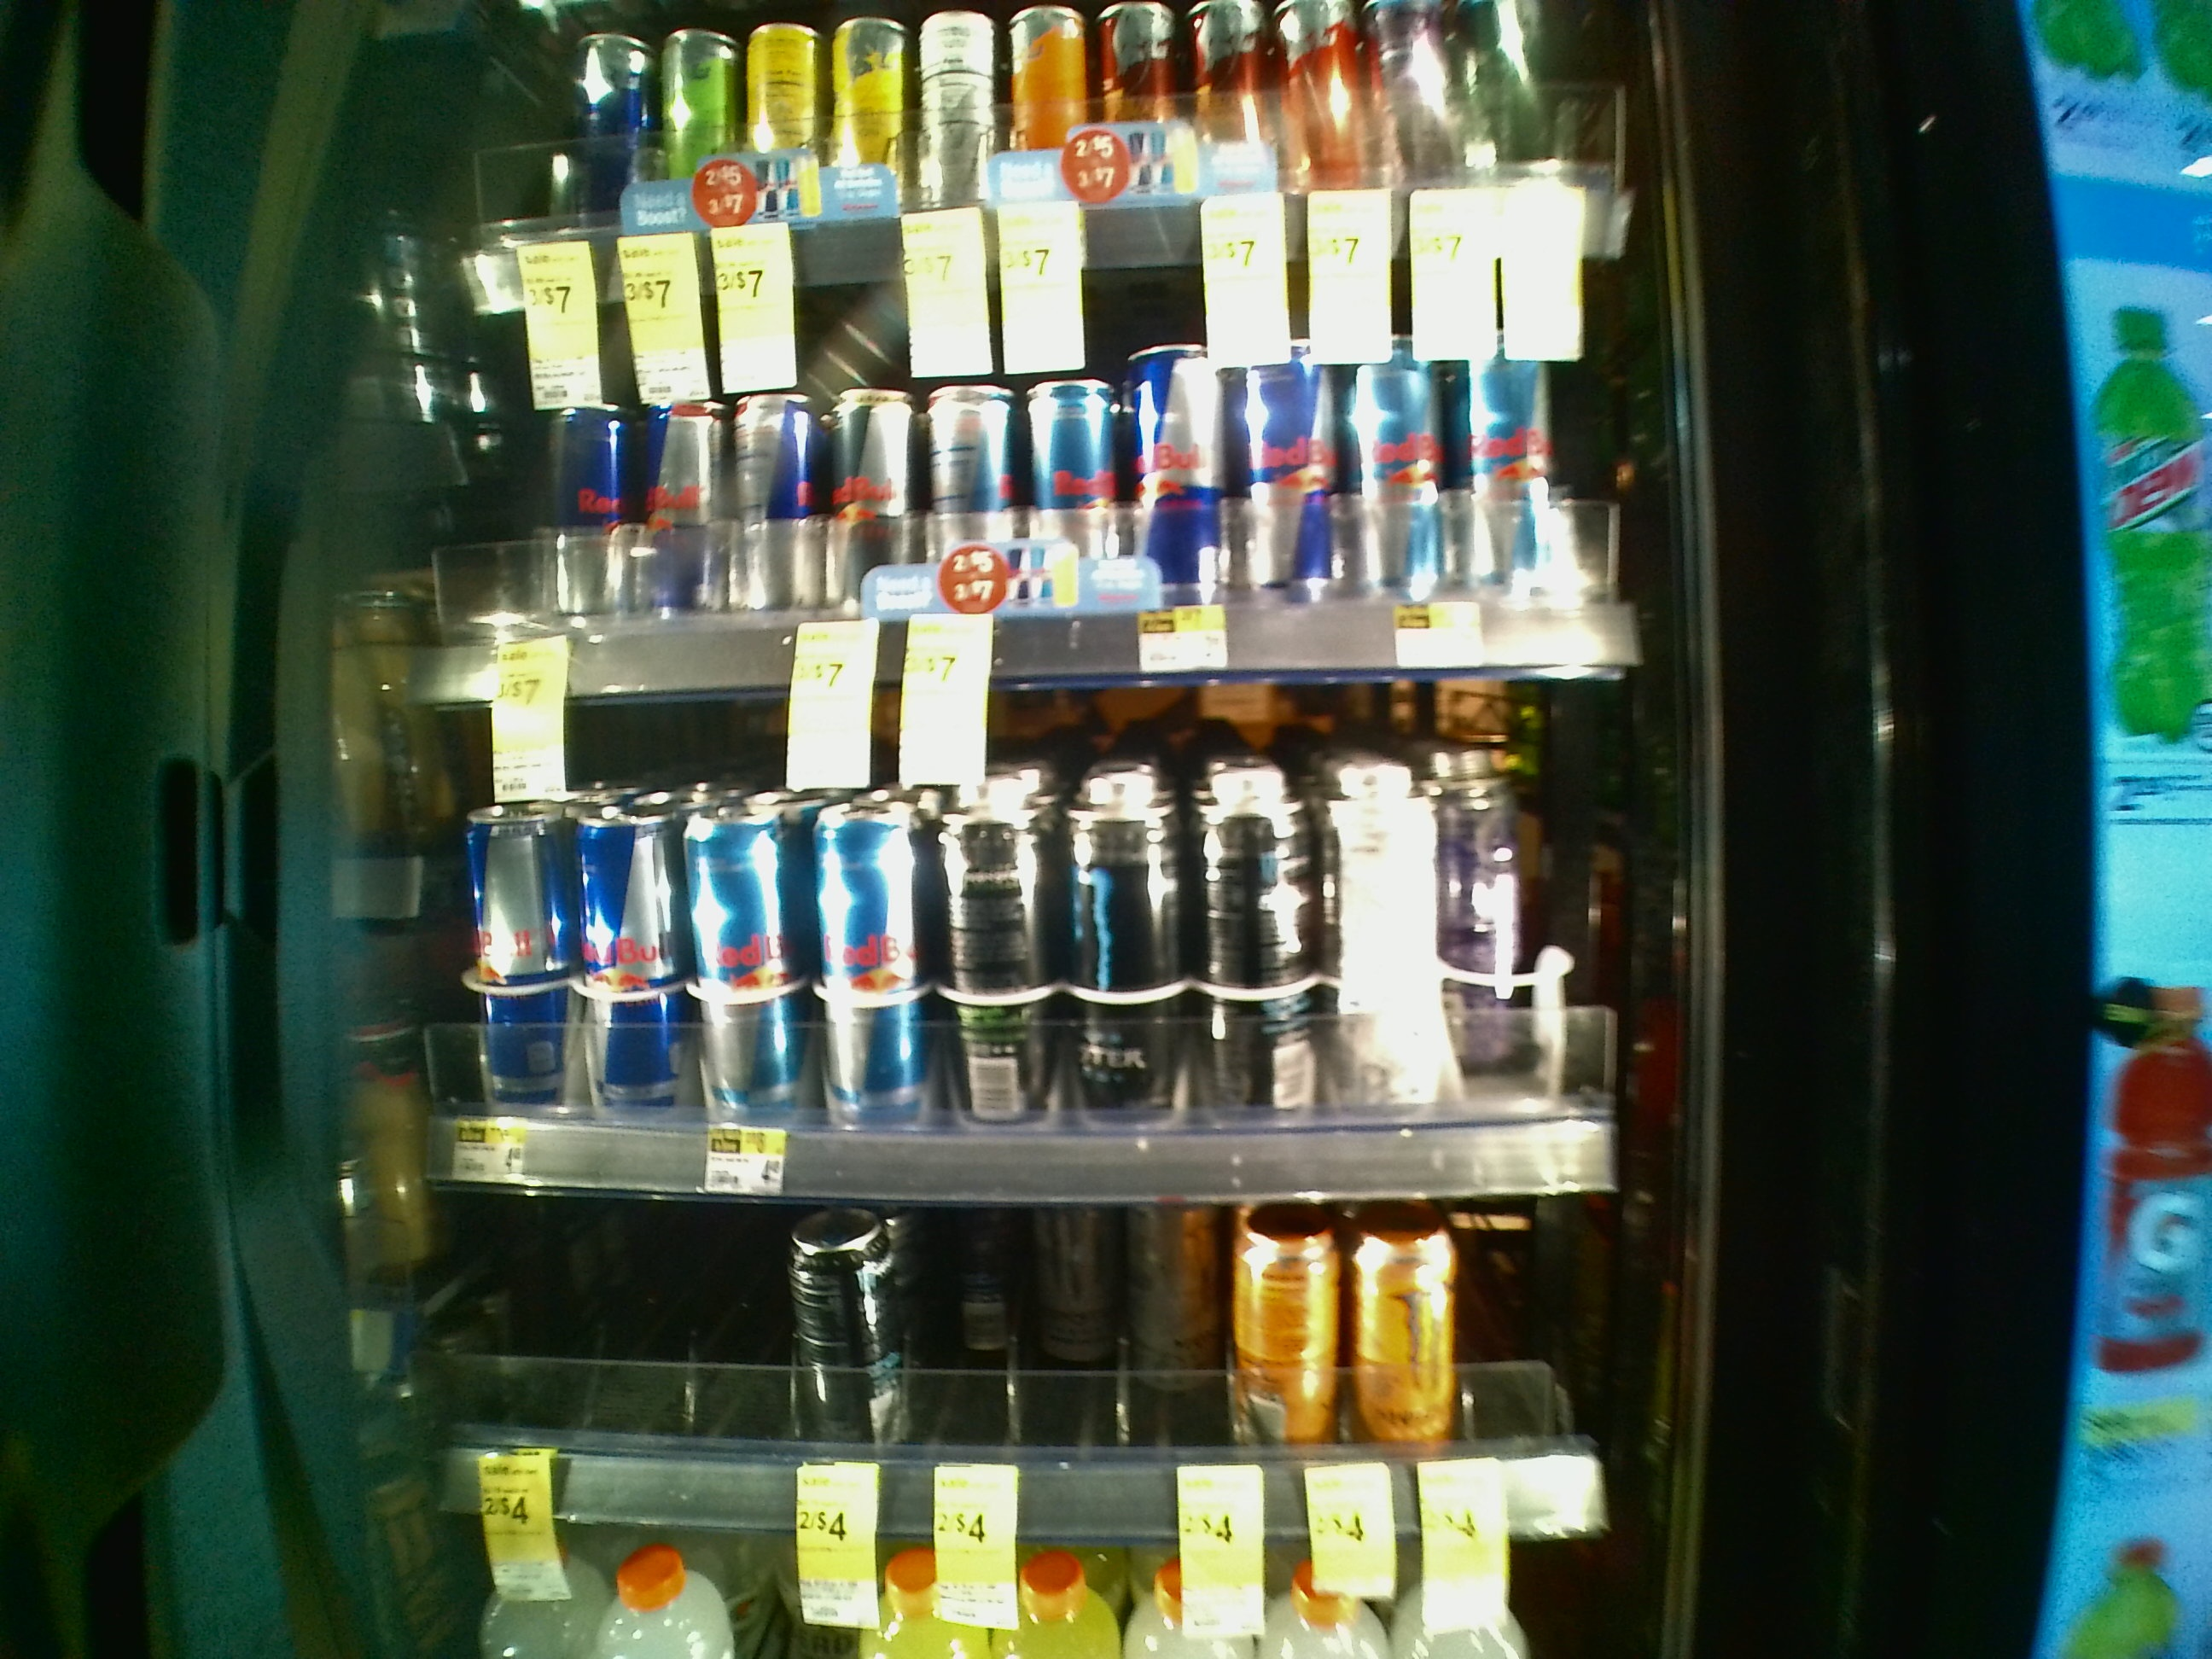shelf: (376, 683, 1698, 1195)
